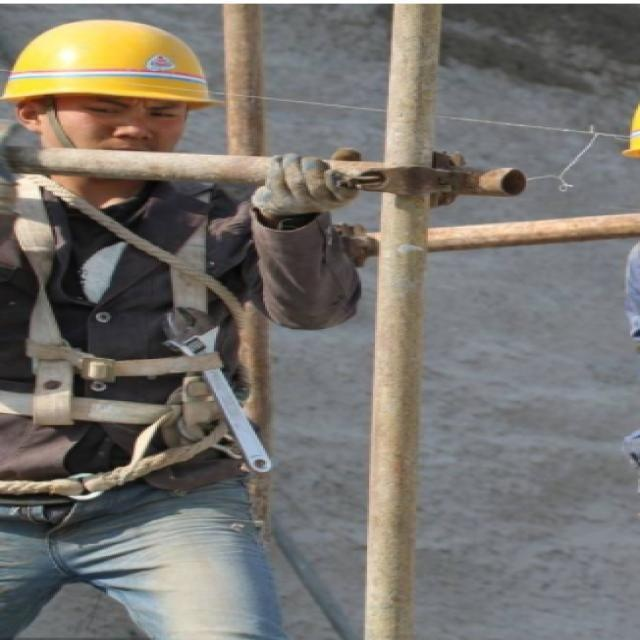Arnes_seguridad: (0, 166, 277, 432)
